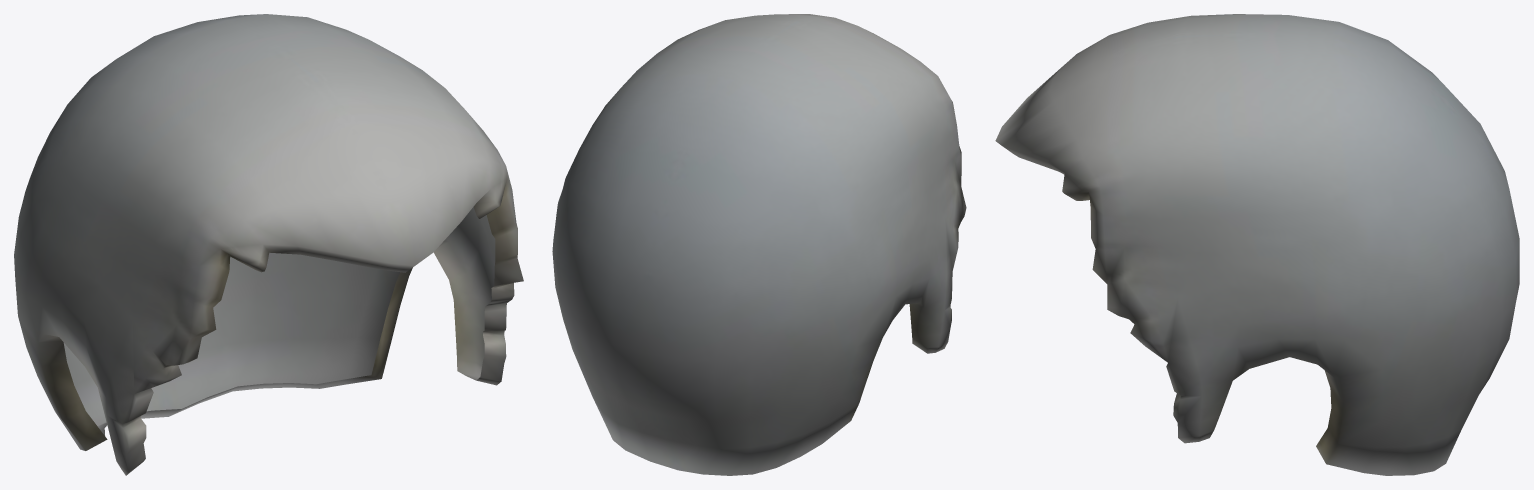
The model's file is operator-hair-female-short-v3.glb.
3 views of the same model, side by side, from view 1: azimuth 30°, elevation 25°; view 2: azimuth 150°, elevation 25°; view 3: azimuth 270°, elevation 25° (orthographic). The views are drawn at different scales.
Visible parts, largest first — view 1: Hair_BuzzedFemale; view 2: Hair_BuzzedFemale; view 3: Hair_BuzzedFemale.
Part boxes in pixels (x1,y1,x2,y2): Hair_BuzzedFemale: (14,14,523,475); Hair_BuzzedFemale: (552,14,966,475); Hair_BuzzedFemale: (995,14,1519,475).
Bounding box in the file's own units: 0.1587 × 0.1702 × 0.1976.
Materials: 1 (1 with a texture image).
